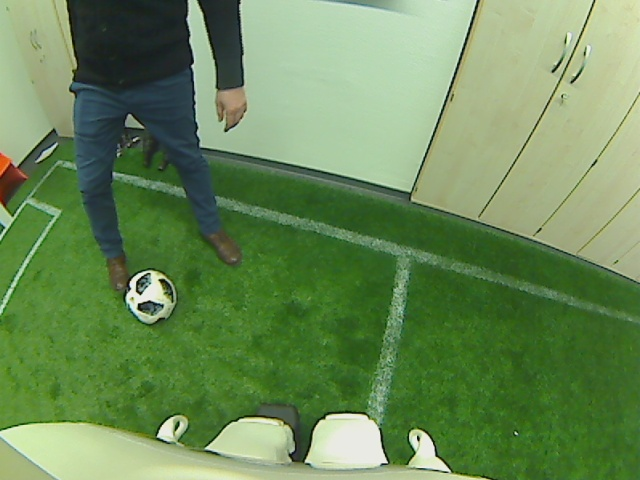ball: (122, 266, 176, 324)
